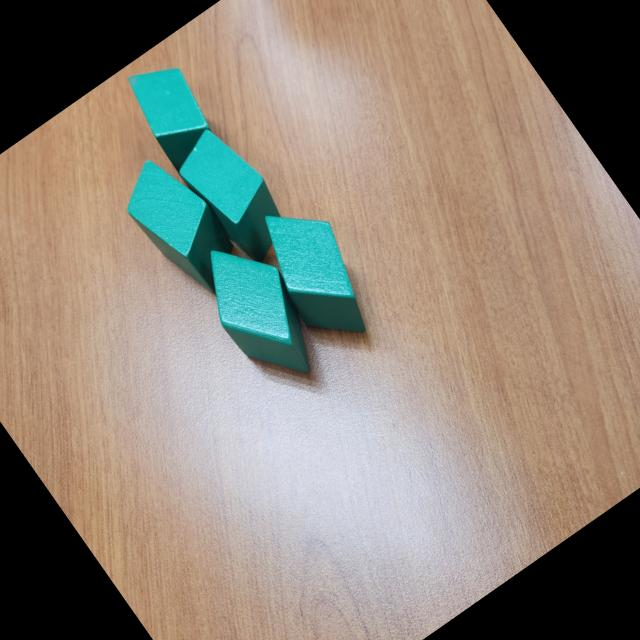green: (182, 224, 339, 400), (238, 185, 392, 358), (109, 144, 254, 308), (165, 115, 302, 271), (115, 48, 234, 182)
